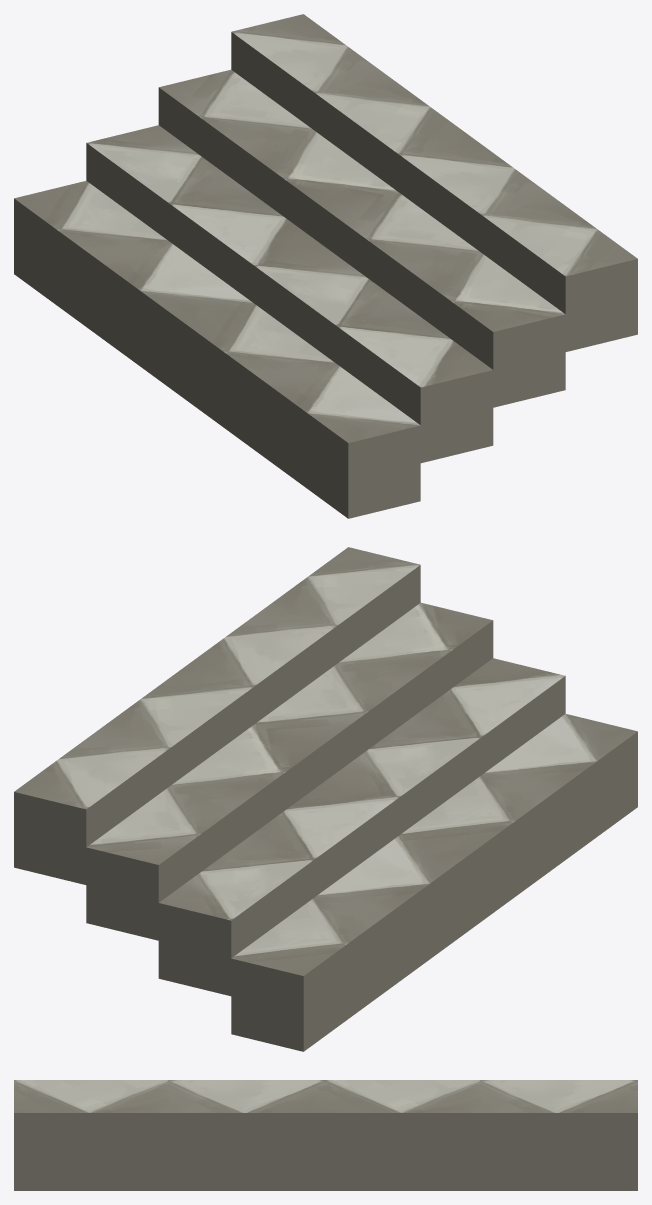
Rendered from stairs02.FBX.
The picture shows the model from 3 angles, top to bottom: view 1: azimuth 30°, elevation 25°; view 2: azimuth 150°, elevation 25°; view 3: azimuth 270°, elevation 25°; orthographic projection. The views are drawn at different scales.
Visible parts, largest first — view 1: stairs001; view 2: stairs001; view 3: stairs001.
Boxes of the visible parts, x1,y1,x2,y2 form: stairs001: (14, 14, 637, 518); stairs001: (14, 547, 637, 1051); stairs001: (14, 1080, 637, 1190).
Bounding box in the file's own units: 200 × 125 × 400.
Materials: 2 (2 with a texture image).
